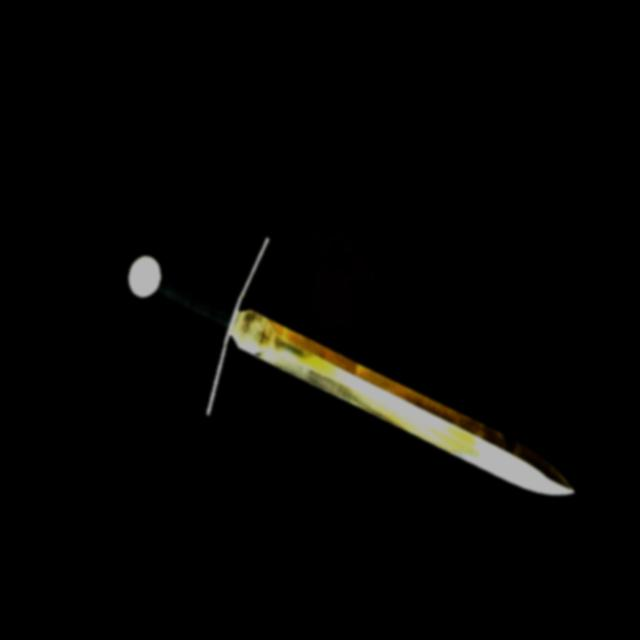short sword: (71, 177, 612, 543)
